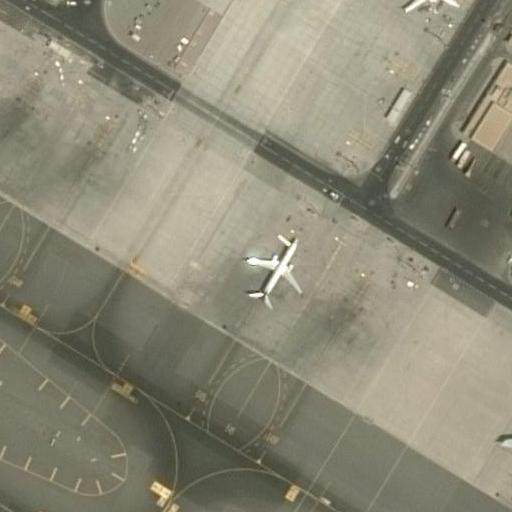Aircraft: (237, 236, 311, 305), (493, 399, 512, 512), (391, 0, 466, 14)
